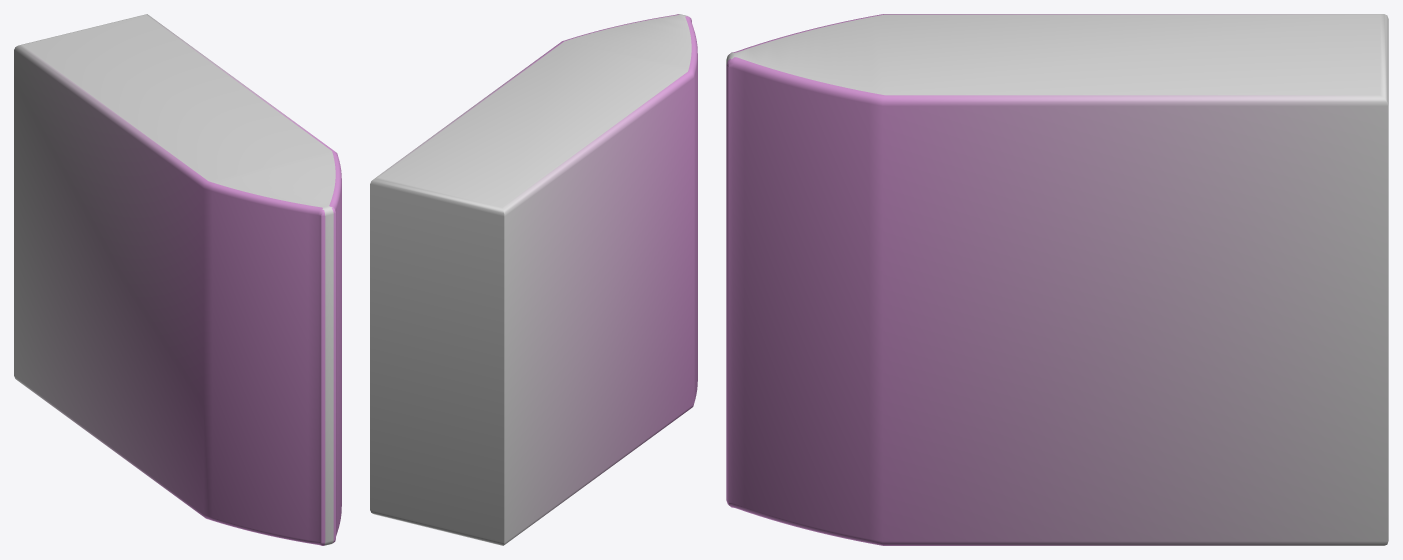
Rendered from Kit_Lock_Latchbolt_Mortise_DA.fbx.
The picture shows the model from 3 angles, left to right: view 1: azimuth 30°, elevation 25°; view 2: azimuth 150°, elevation 25°; view 3: azimuth 270°, elevation 25°; orthographic projection. The views are drawn at different scales.
Parts seen in each view (by area): view 1: Kit_Lock_Latchbolt_Mortise_DA_LOD0; view 2: Kit_Lock_Latchbolt_Mortise_DA_LOD0; view 3: Kit_Lock_Latchbolt_Mortise_DA_LOD0.
Part boxes in pixels (left/top/right/bottom): Kit_Lock_Latchbolt_Mortise_DA_LOD0: left=14, top=14, right=341, bottom=545; Kit_Lock_Latchbolt_Mortise_DA_LOD0: left=370, top=14, right=697, bottom=545; Kit_Lock_Latchbolt_Mortise_DA_LOD0: left=726, top=14, right=1388, bottom=545.
Size of what is drawn, in the model's own units: 0.0125 by 0.03 by 0.04.
